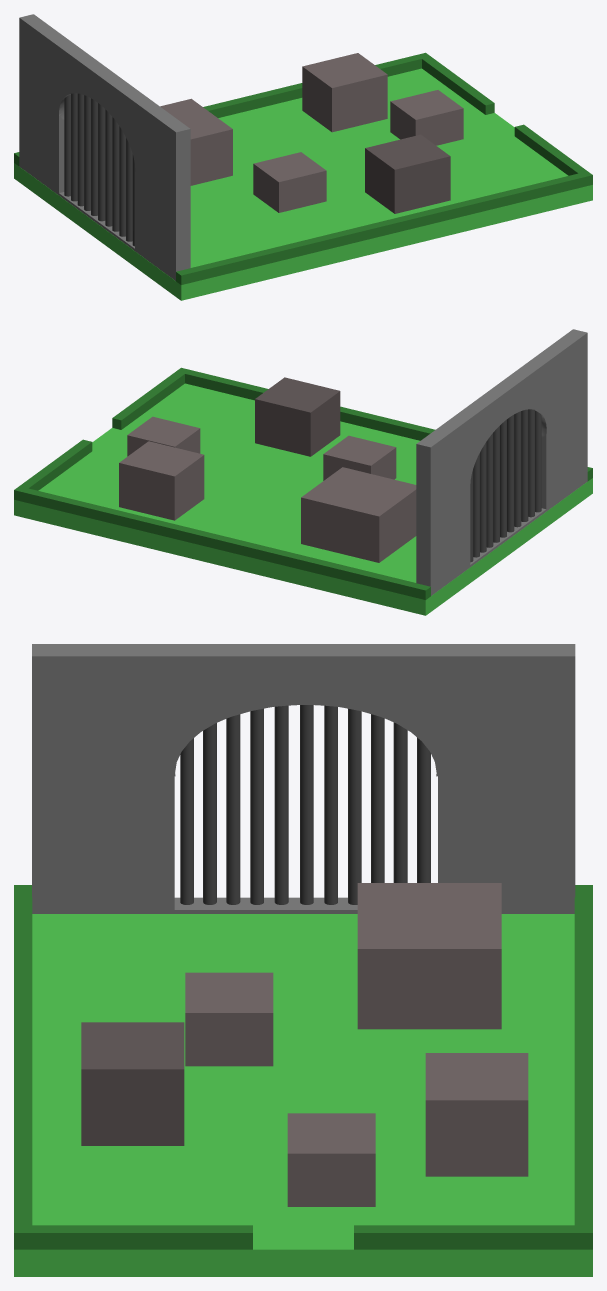
3 views of the same model, one above another, from view 1: azimuth 30°, elevation 25°; view 2: azimuth 150°, elevation 25°; view 3: azimuth 270°, elevation 25° (orthographic). The views are drawn at different scales.
Parts seen in each view (by area): view 1: pCube7, pCube6, pasted__pCube8 (×3), pasted__pCylinder2, pasted__pasted__pCube8, pCube8; view 2: pCube7, pCube6, pasted__pCube8 (×3), pasted__pCylinder2, pasted__pasted__pCube8, pCube8; view 3: pCube7, pCube6, pasted__pCube8 (×3), pasted__pCylinder2, pasted__pasted__pCube8, pCube8.
Part boxes in pixels (x1,y1,x2,y2): pCube7: (14, 52, 592, 300); pCube6: (19, 14, 190, 280); pasted__pCube8 (×3): (160, 53, 387, 212); pasted__pCylinder2: (64, 93, 135, 246); pasted__pasted__pCube8: (365, 134, 450, 213); pCube8: (390, 90, 463, 145); pCube7: (14, 367, 592, 615); pCube6: (416, 329, 587, 595); pasted__pCube8 (×3): (119, 435, 416, 562); pasted__pCylinder2: (470, 409, 541, 562); pasted__pasted__pCube8: (255, 377, 340, 456); pCube8: (127, 416, 200, 456); pCube7: (14, 885, 592, 1276); pCube6: (32, 644, 575, 913); pasted__pCube8 (×3): (185, 883, 528, 1176); pasted__pCylinder2: (180, 705, 430, 904); pasted__pasted__pCube8: (81, 1022, 184, 1145); pCube8: (287, 1113, 375, 1206).
Bounding box in the file's own units: 22.4 × 8.55 × 15.75.
